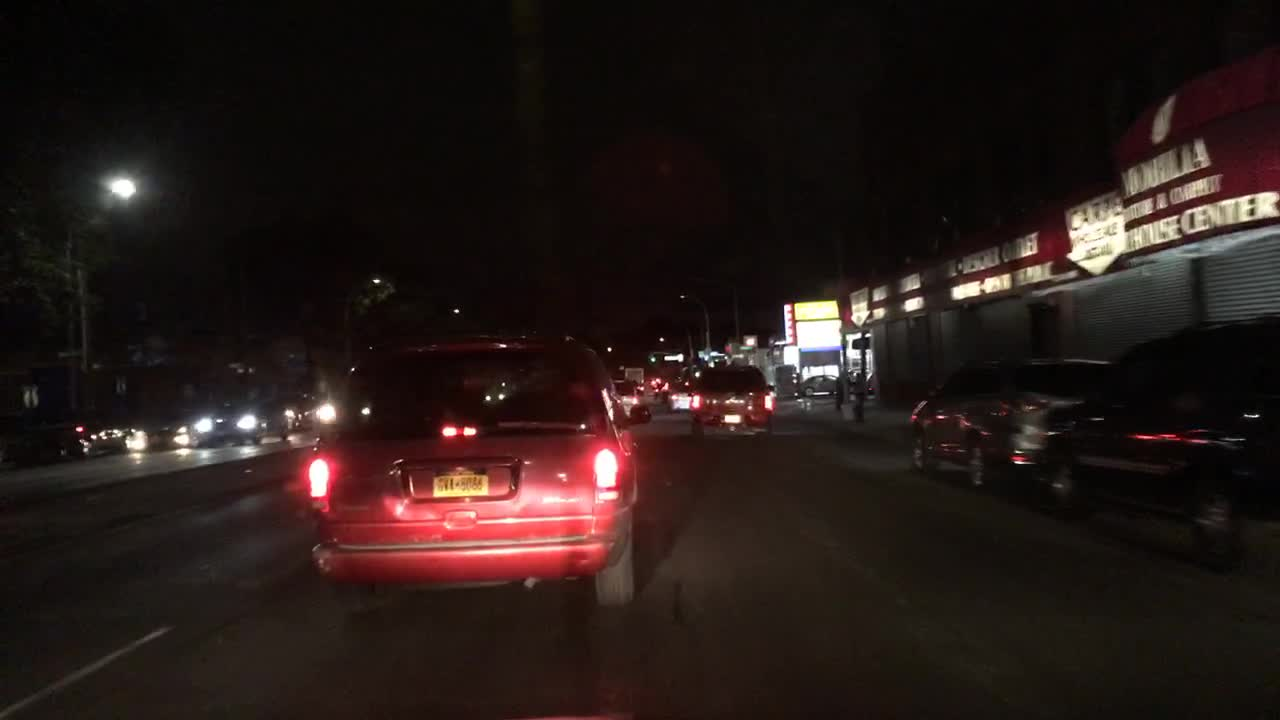car: (310, 332, 646, 610), (1045, 309, 1279, 558), (906, 351, 1109, 488), (0, 402, 109, 461), (691, 364, 778, 434), (194, 392, 281, 446), (145, 404, 214, 450), (276, 390, 324, 435), (613, 373, 649, 423), (799, 369, 844, 394), (844, 368, 877, 394), (670, 376, 691, 412), (655, 378, 670, 396)
